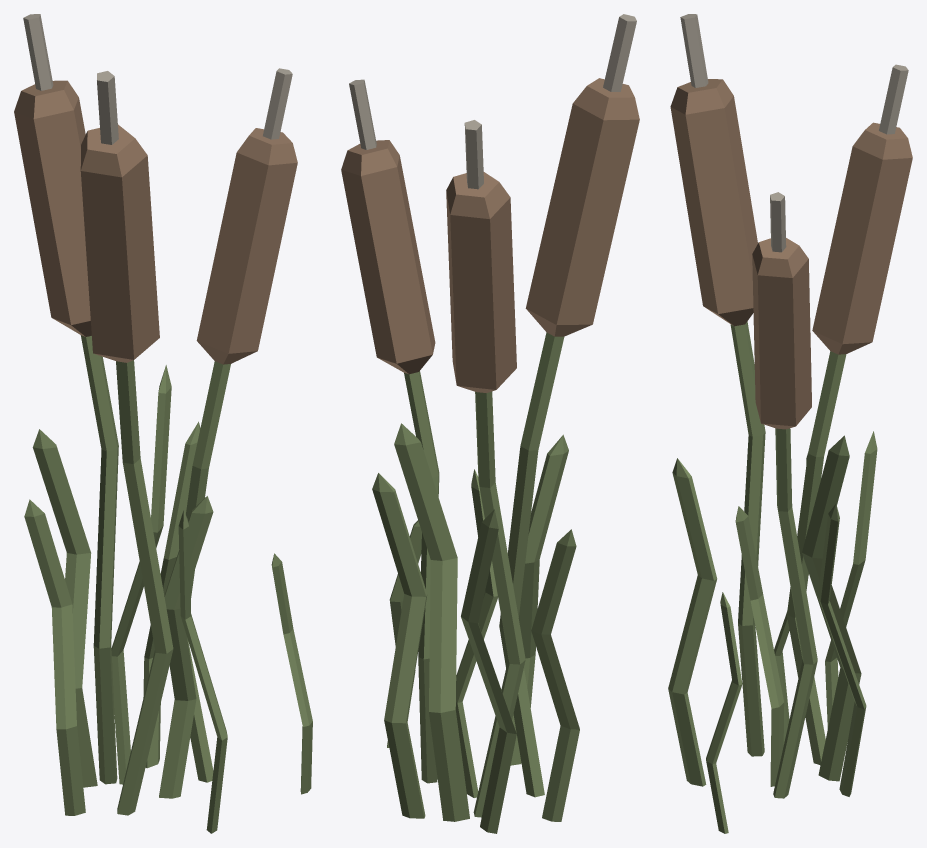
Rendered from cattail.fbx.
The picture shows the model from 3 angles, left to right: view 1: azimuth 30°, elevation 25°; view 2: azimuth 150°, elevation 25°; view 3: azimuth 270°, elevation 25°; orthographic projection. The views are drawn at different scales.
Parts seen in each view (by area): view 1: blade_of_grass7; view 2: blade_of_grass7; view 3: blade_of_grass7.
Part boxes in pixels (x1,y1,x2,y2): blade_of_grass7: (14, 14, 312, 833); blade_of_grass7: (341, 14, 639, 833); blade_of_grass7: (668, 14, 912, 833).
Size of the model in its own units: 0.1835 by 0.5423 by 0.1673.
